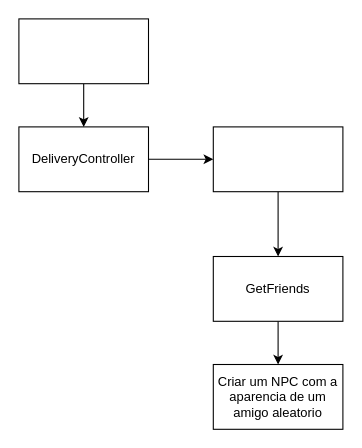
The diagram is 362 pixels wide and 448 high, and some of its shapes have lost their labels. The shapes that lost their labels are listed below. From the top down, each one's box as (x1, y1, x2, y2) in pixels, then its label:
(18, 18, 148, 84): Player
(212, 126, 343, 192): DeliveryService
